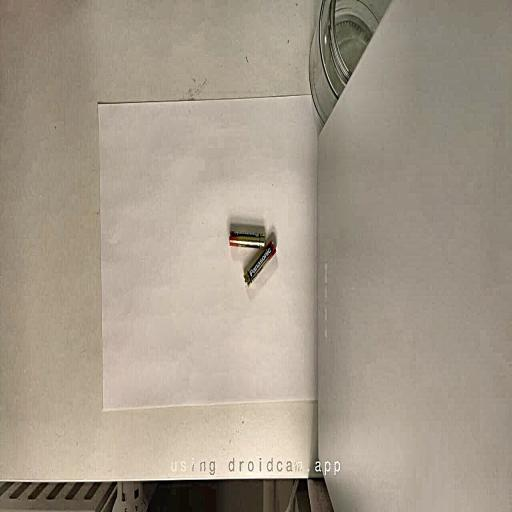PanasonicAA: (244, 240, 275, 286), (230, 230, 265, 248)
